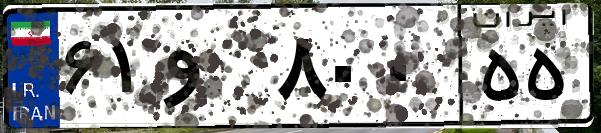0: (385, 28, 445, 110), (330, 28, 385, 110)
1: (110, 28, 158, 98)
5: (475, 38, 525, 113), (525, 38, 570, 115)
6: (57, 26, 110, 100)
8: (270, 28, 330, 110)
و: (158, 20, 270, 120)
